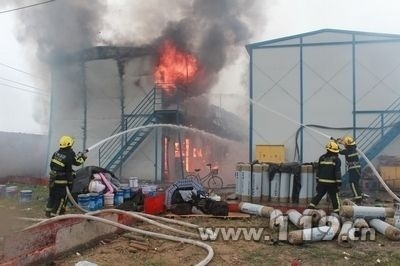fire: (150, 37, 201, 92)
